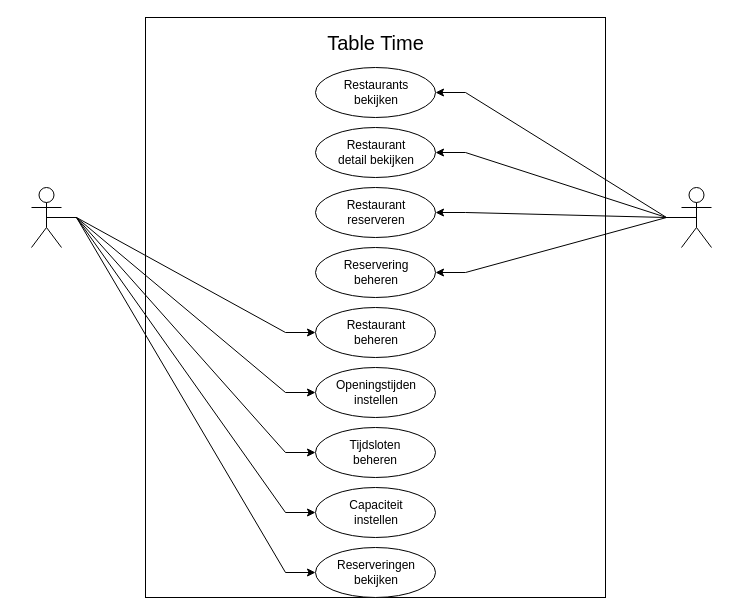
Some shapes in this 729 by 615 pixel diagram are drawn without their labels. Here are the shapes that lost their labels. From the top down, the centre of each, then its label:
point (46, 217): Restaurant
point (696, 217): Client
